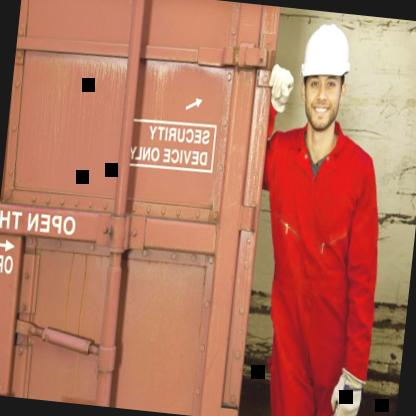helmet: (280, 10, 365, 151)
